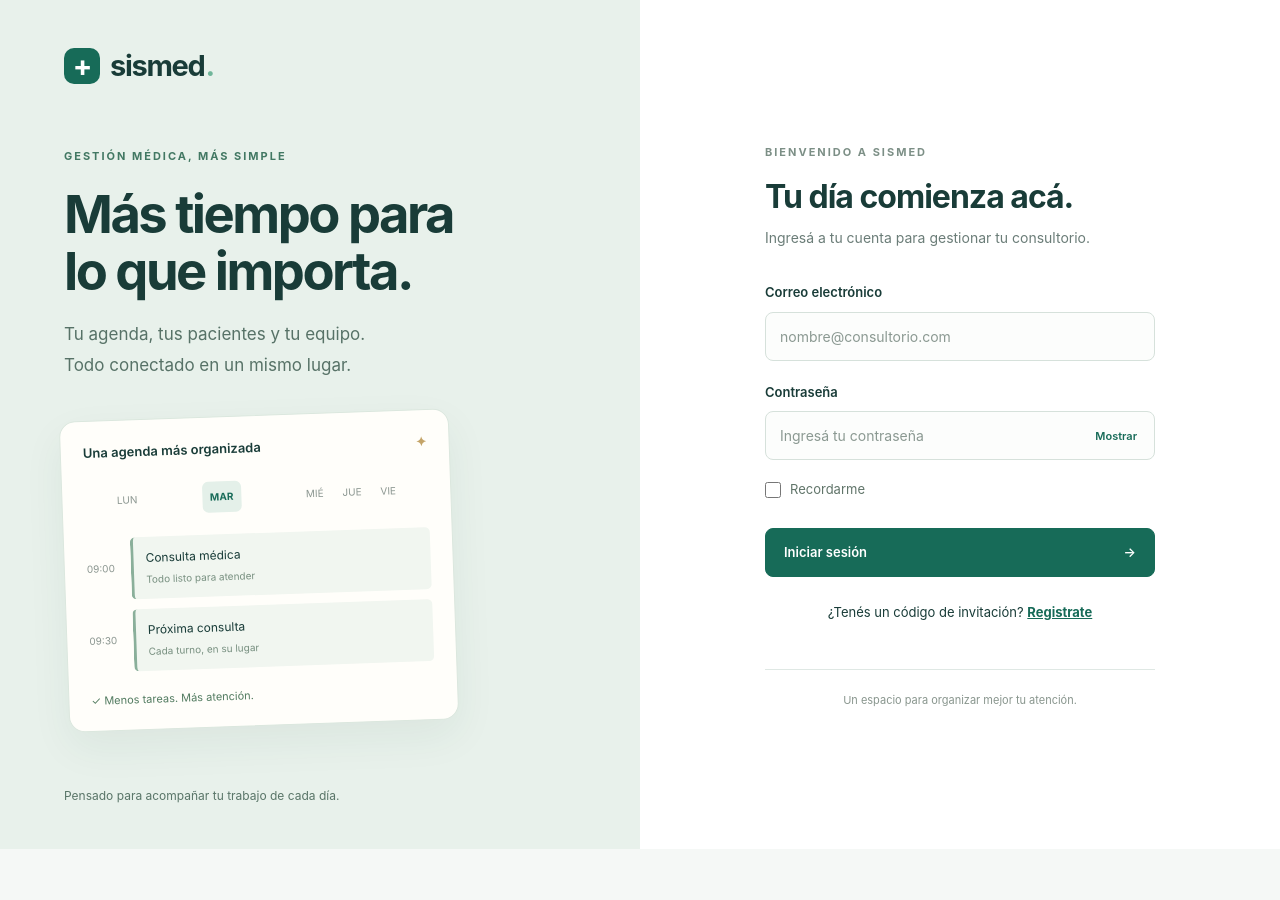
Test case: invalid login explains failure without storing a session
Type "demo@example.com" into the field labelled "Correo electrónico".
click(960, 336); type("demo@example.com")  # box [765,312,1155,361]
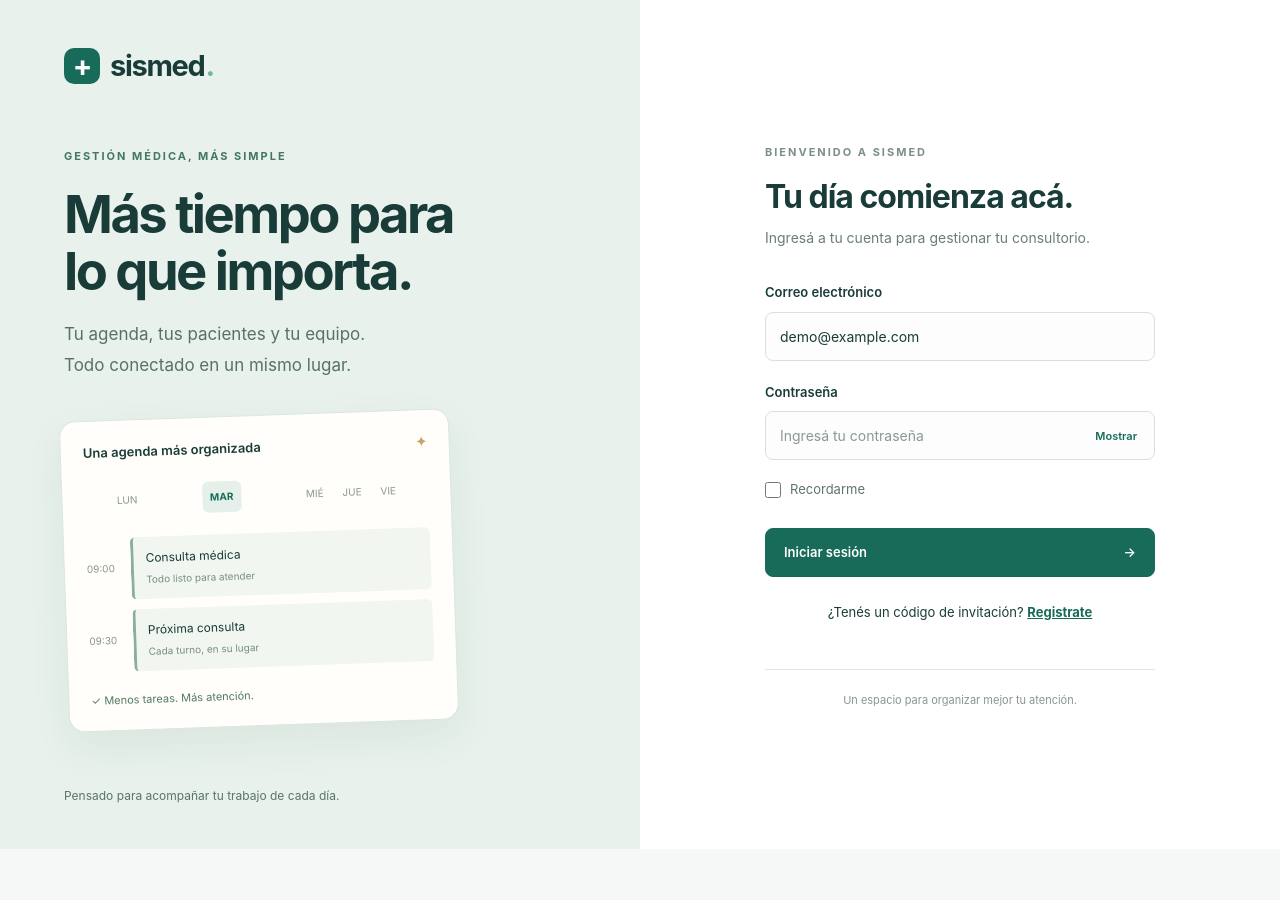
Type "test-only" into the password field labelled "Contraseña".
click(960, 436); type("test-only")  # box [765,411,1155,460]
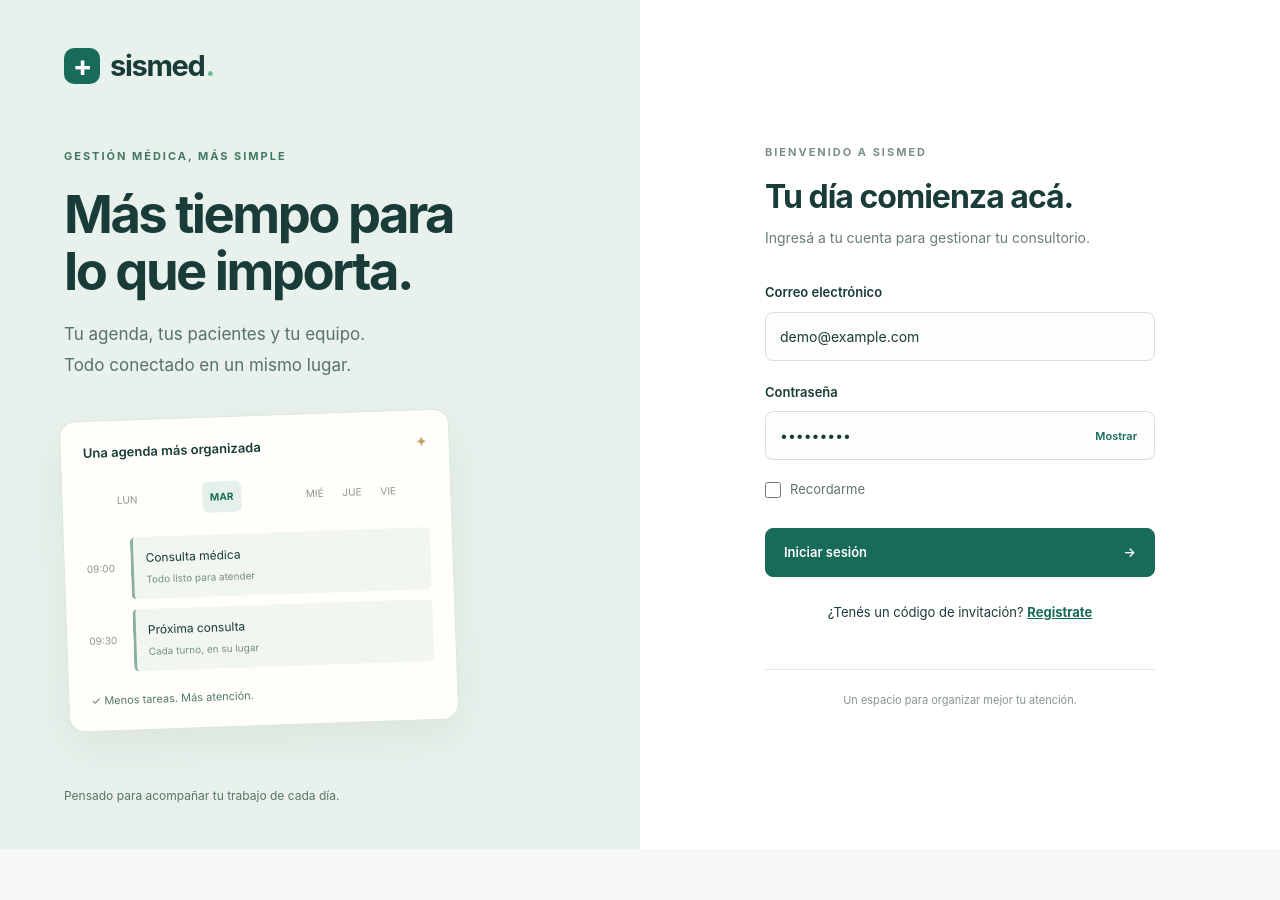
Click the button "Iniciar sesión →".
click(826, 552)  # box [765,528,1155,577]
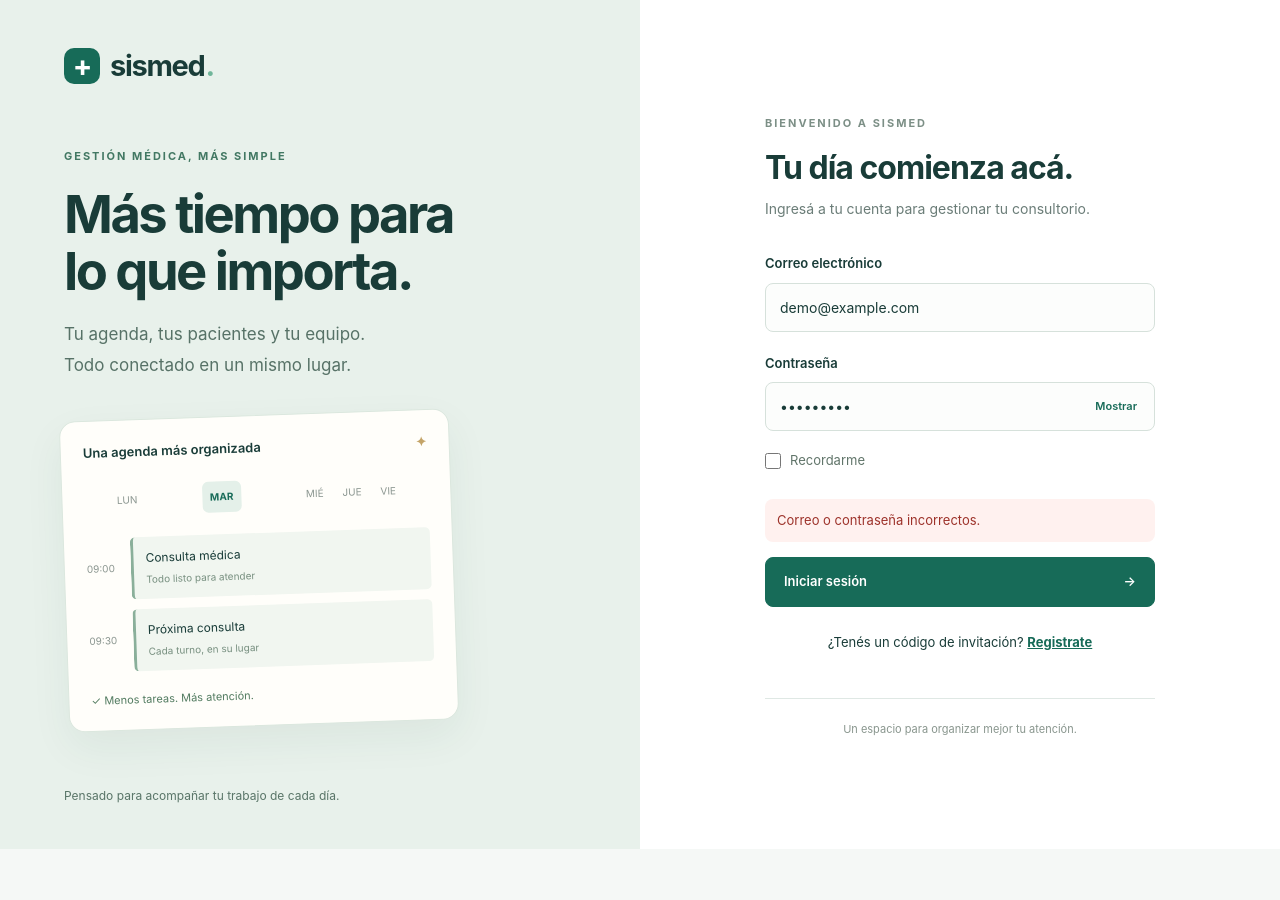
Result: the message reads "Correo o contraseña incorrectos." at [777,512,980,528]
